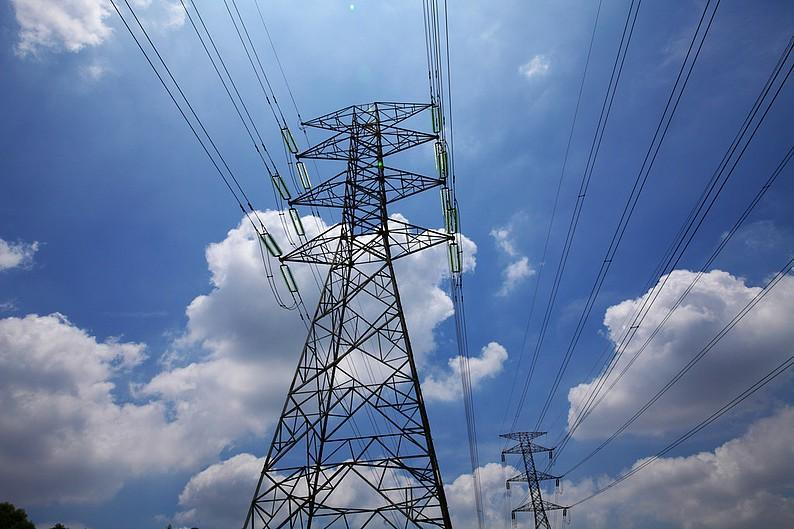power_tower: (237, 96, 453, 529), (495, 425, 569, 529)
